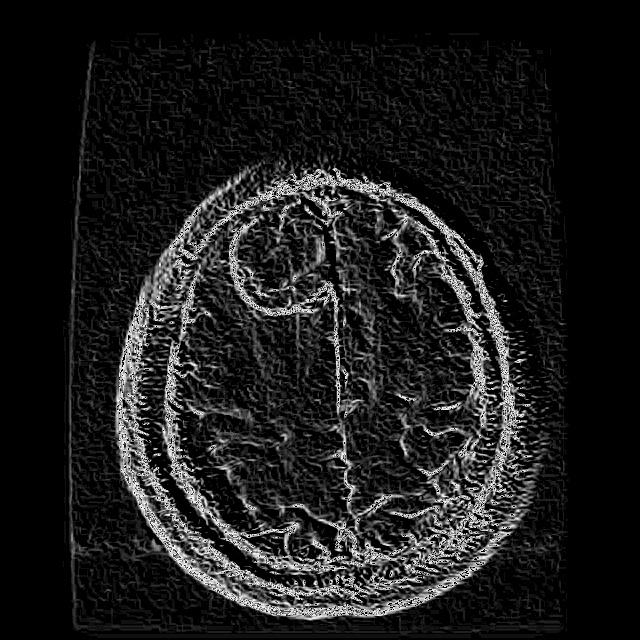Brain-Tumor: (218, 192, 344, 324)
